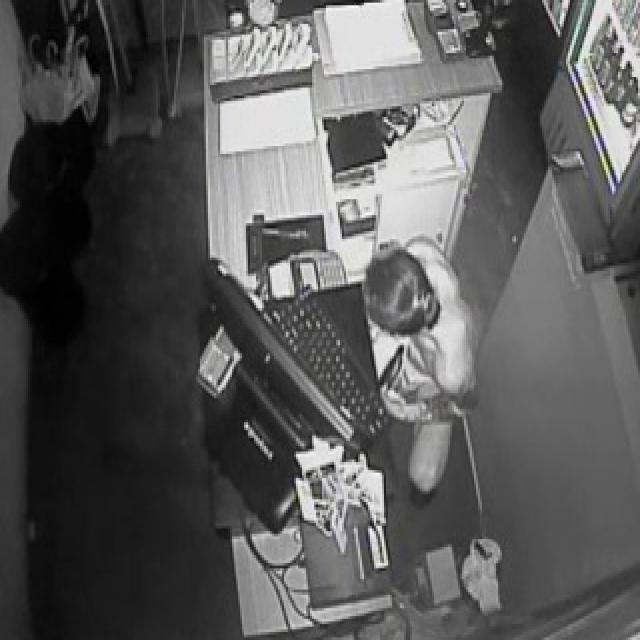thief: (367, 228, 462, 418)
